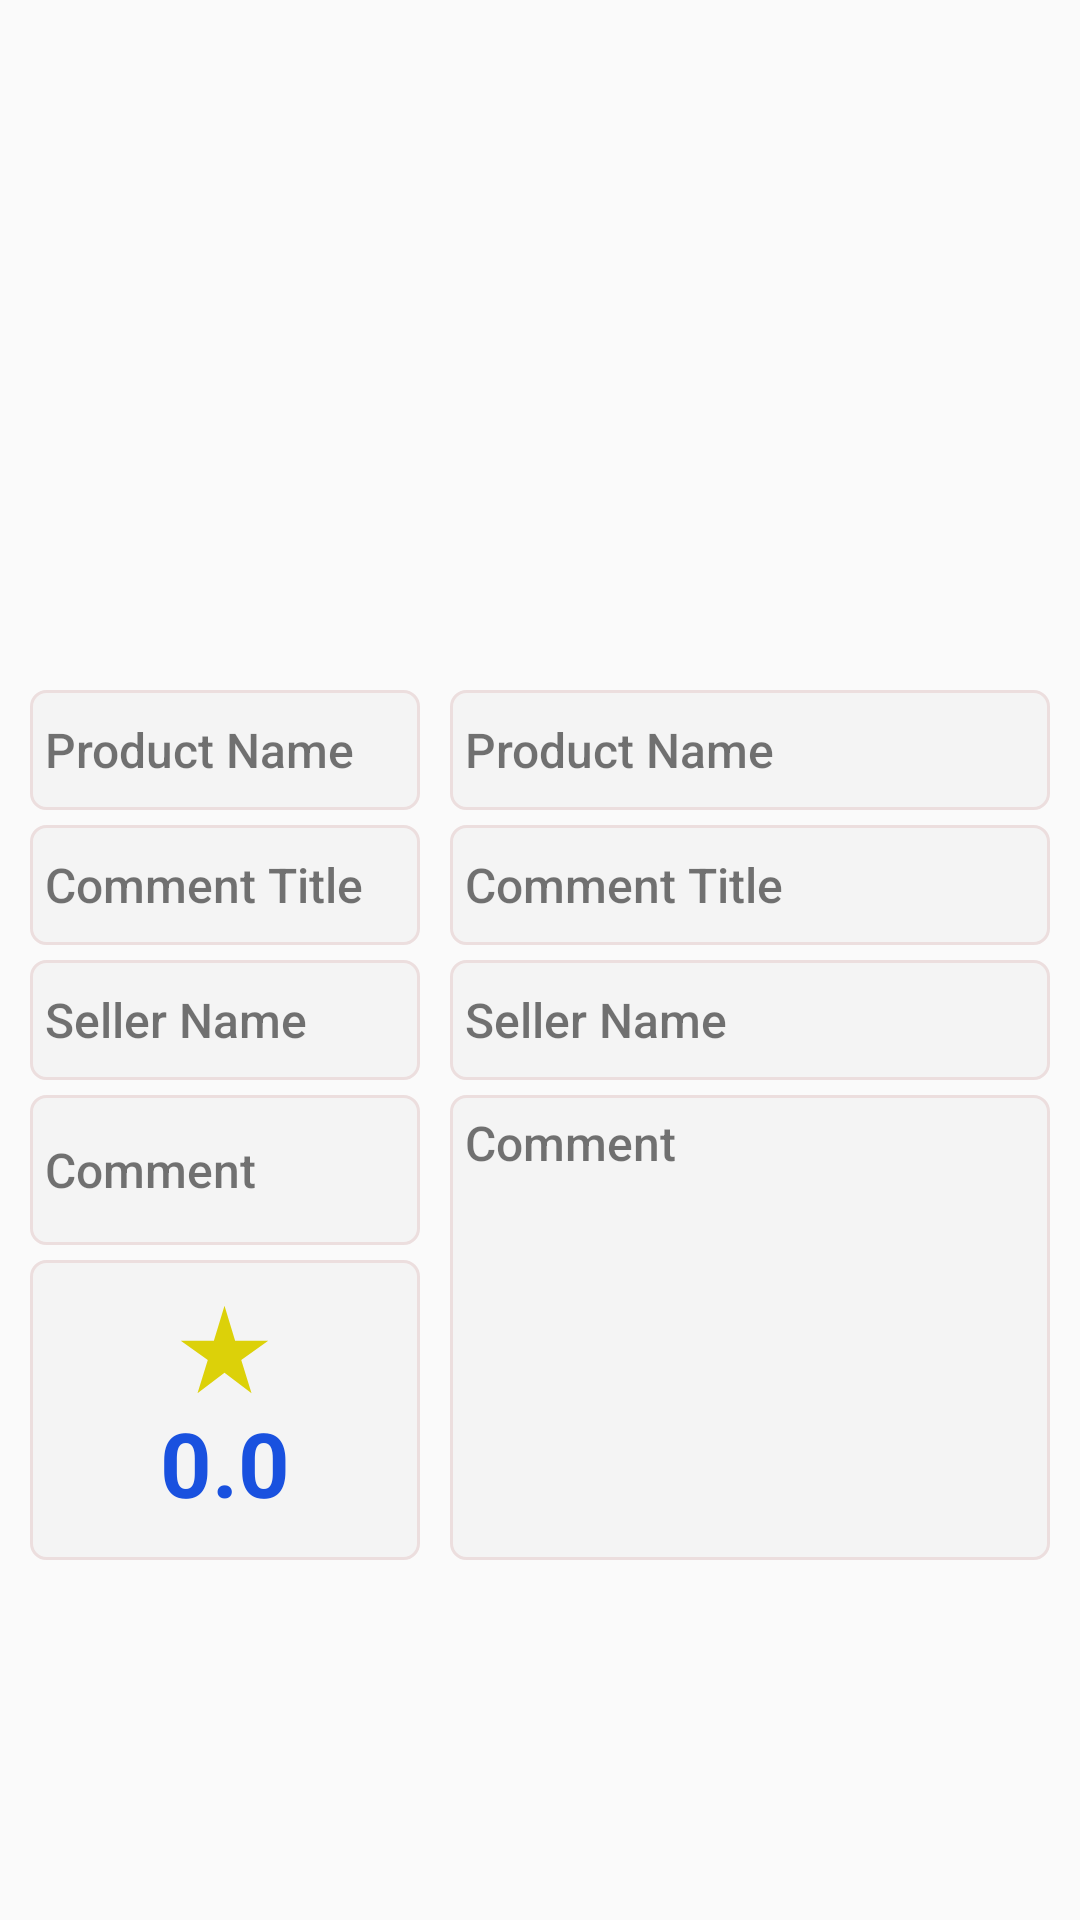

Named icons in this screenshot (1080*1920) and their bounding boxes, (x1, y1, x2, y2):
rates: (181, 1306, 268, 1393)
